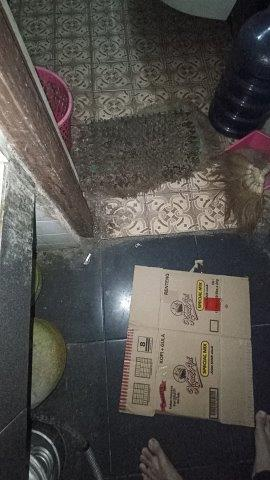kardus: (120, 266, 254, 426)
